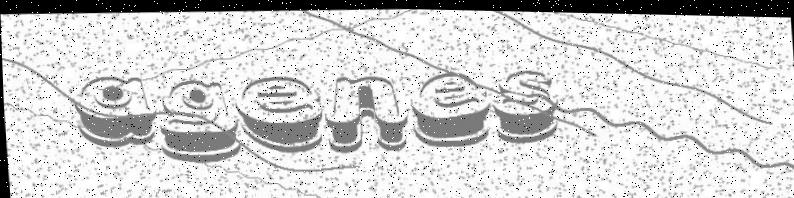a: (71, 73, 158, 149)
e: (231, 72, 327, 154), (407, 69, 491, 145)
g: (155, 75, 242, 164)
n: (320, 71, 411, 152)
s: (487, 65, 559, 141)
